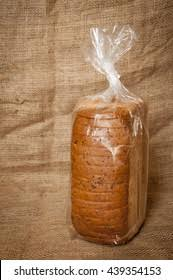bread: (63, 36, 153, 238)
